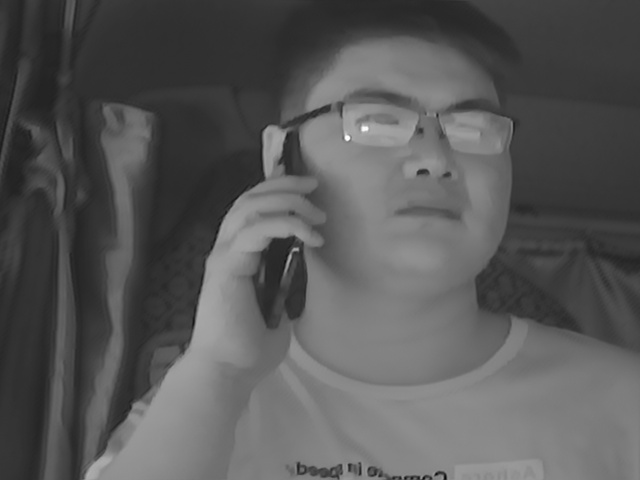hand: (192, 177, 322, 366)
